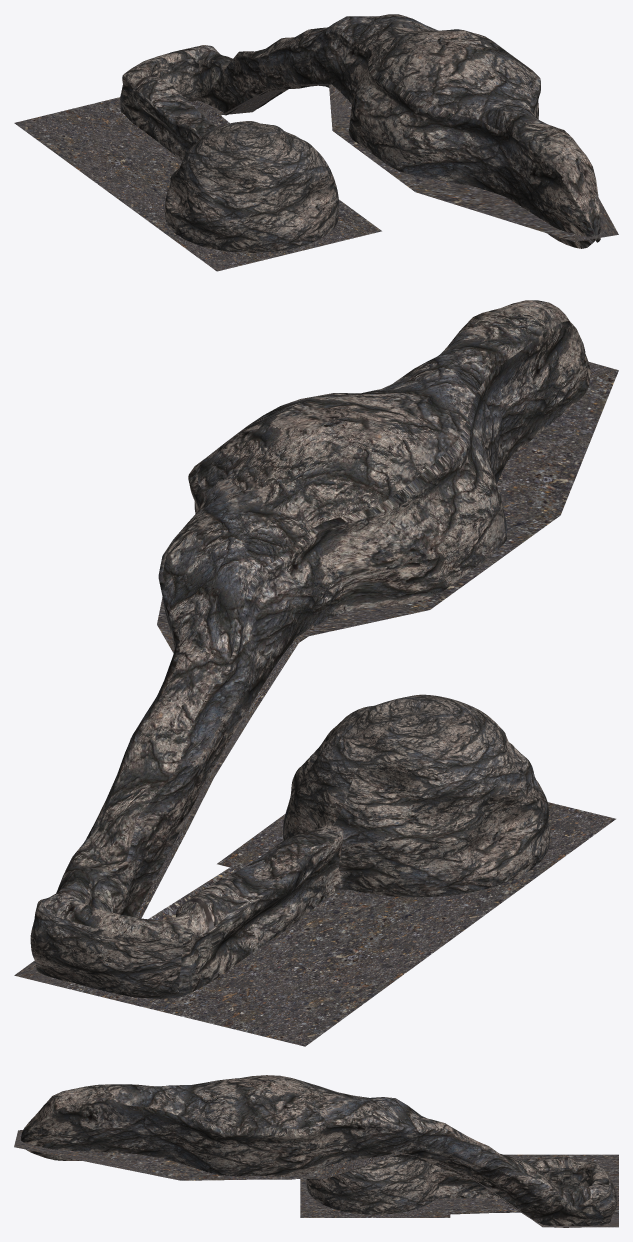
File: mock2.fbx
The picture shows the model from 3 angles, top to bottom: view 1: azimuth 30°, elevation 25°; view 2: azimuth 150°, elevation 25°; view 3: azimuth 270°, elevation 25°; orthographic projection. The views are drawn at different scales.
Visible parts, largest first — view 1: pSphere1, pPlane13; view 2: pSphere1, pPlane13; view 3: pSphere1, pPlane13.
Boxes of the visible parts, <box> form: pSphere1: <box>120,14,600,252</box>; pPlane13: <box>14,84,618,271</box>; pSphere1: <box>30,300,590,998</box>; pPlane13: <box>14,361,618,1046</box>; pSphere1: <box>20,1075,617,1227</box>; pPlane13: <box>14,1130,618,1227</box>.
Bounding box in the file's own units: 768 × 514 × 1817.
2 materials, 2 textured.
